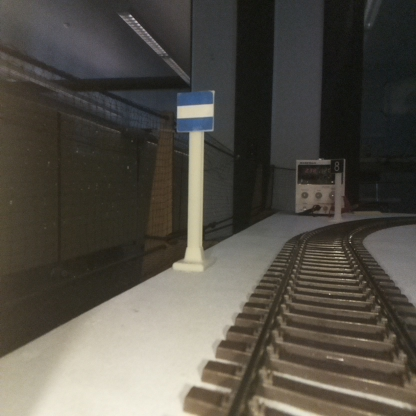black-info-8: (330, 158, 343, 222)
start: (177, 93, 213, 269)
